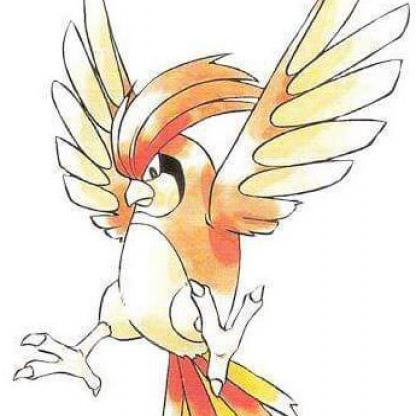Pidgeotto: (9, 1, 416, 416)
